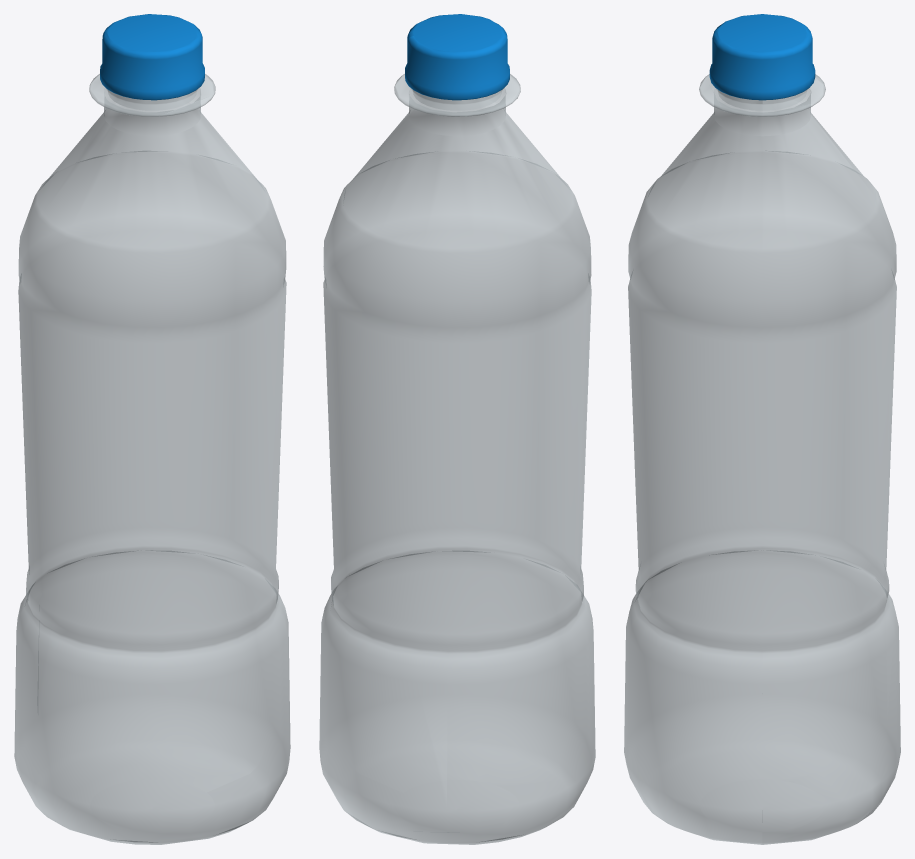
The model's file is water_bottles.glb.
The picture shows the model from 3 angles, left to right: view 1: azimuth 30°, elevation 25°; view 2: azimuth 150°, elevation 25°; view 3: azimuth 270°, elevation 25°; orthographic projection.
Parts seen in each view (by area): view 1: SM_Water_bottle_1, SM_Water_bottle_1_cap; view 2: SM_Water_bottle_1, SM_Water_bottle_1_cap; view 3: SM_Water_bottle_1, SM_Water_bottle_1_cap.
Part boxes in pixels (x1,y1,x2,y2): SM_Water_bottle_1: [14, 74, 290, 844]; SM_Water_bottle_1_cap: [100, 14, 204, 100]; SM_Water_bottle_1: [319, 74, 595, 844]; SM_Water_bottle_1_cap: [405, 14, 509, 100]; SM_Water_bottle_1: [624, 74, 900, 844]; SM_Water_bottle_1_cap: [709, 14, 815, 100].
Size of the model in its own units: 10.22 by 31.58 by 10.22.
Materials: 1 (1 with a texture image).
